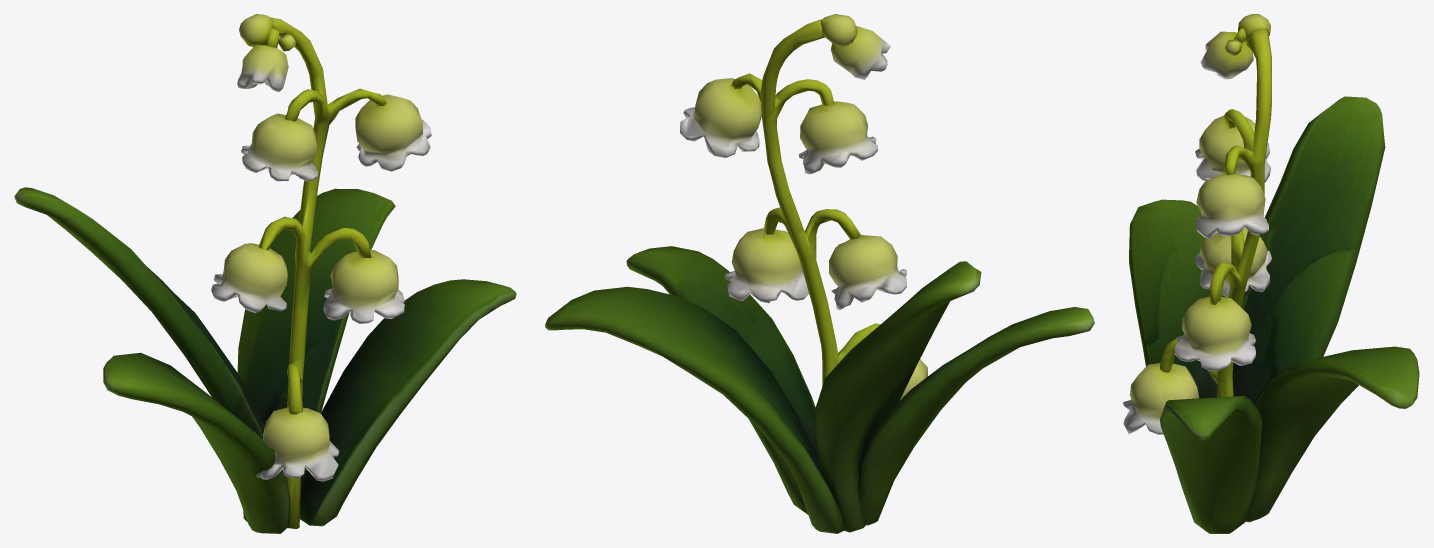
The model's file is emma-lily-of-the-valley.glb.
3 renders of one model, left to right at view 1: azimuth 30°, elevation 25°; view 2: azimuth 150°, elevation 25°; view 3: azimuth 270°, elevation 25°, orthographic. The views are drawn at different scales.
Visible parts, largest first — view 1: tripo_node_ab7aa4e1-3352-42ed-91c8-3d4e15de6cba; view 2: tripo_node_ab7aa4e1-3352-42ed-91c8-3d4e15de6cba; view 3: tripo_node_ab7aa4e1-3352-42ed-91c8-3d4e15de6cba.
Part boxes in pixels (box(x1,y1,x2,y2)): tripo_node_ab7aa4e1-3352-42ed-91c8-3d4e15de6cba: box(14, 14, 516, 533); tripo_node_ab7aa4e1-3352-42ed-91c8-3d4e15de6cba: box(545, 14, 1094, 533); tripo_node_ab7aa4e1-3352-42ed-91c8-3d4e15de6cba: box(1123, 14, 1419, 533).
Size of the model in its own units: 0.8906 by 0.998 by 0.541.
Materials: 1 (1 with a texture image).
